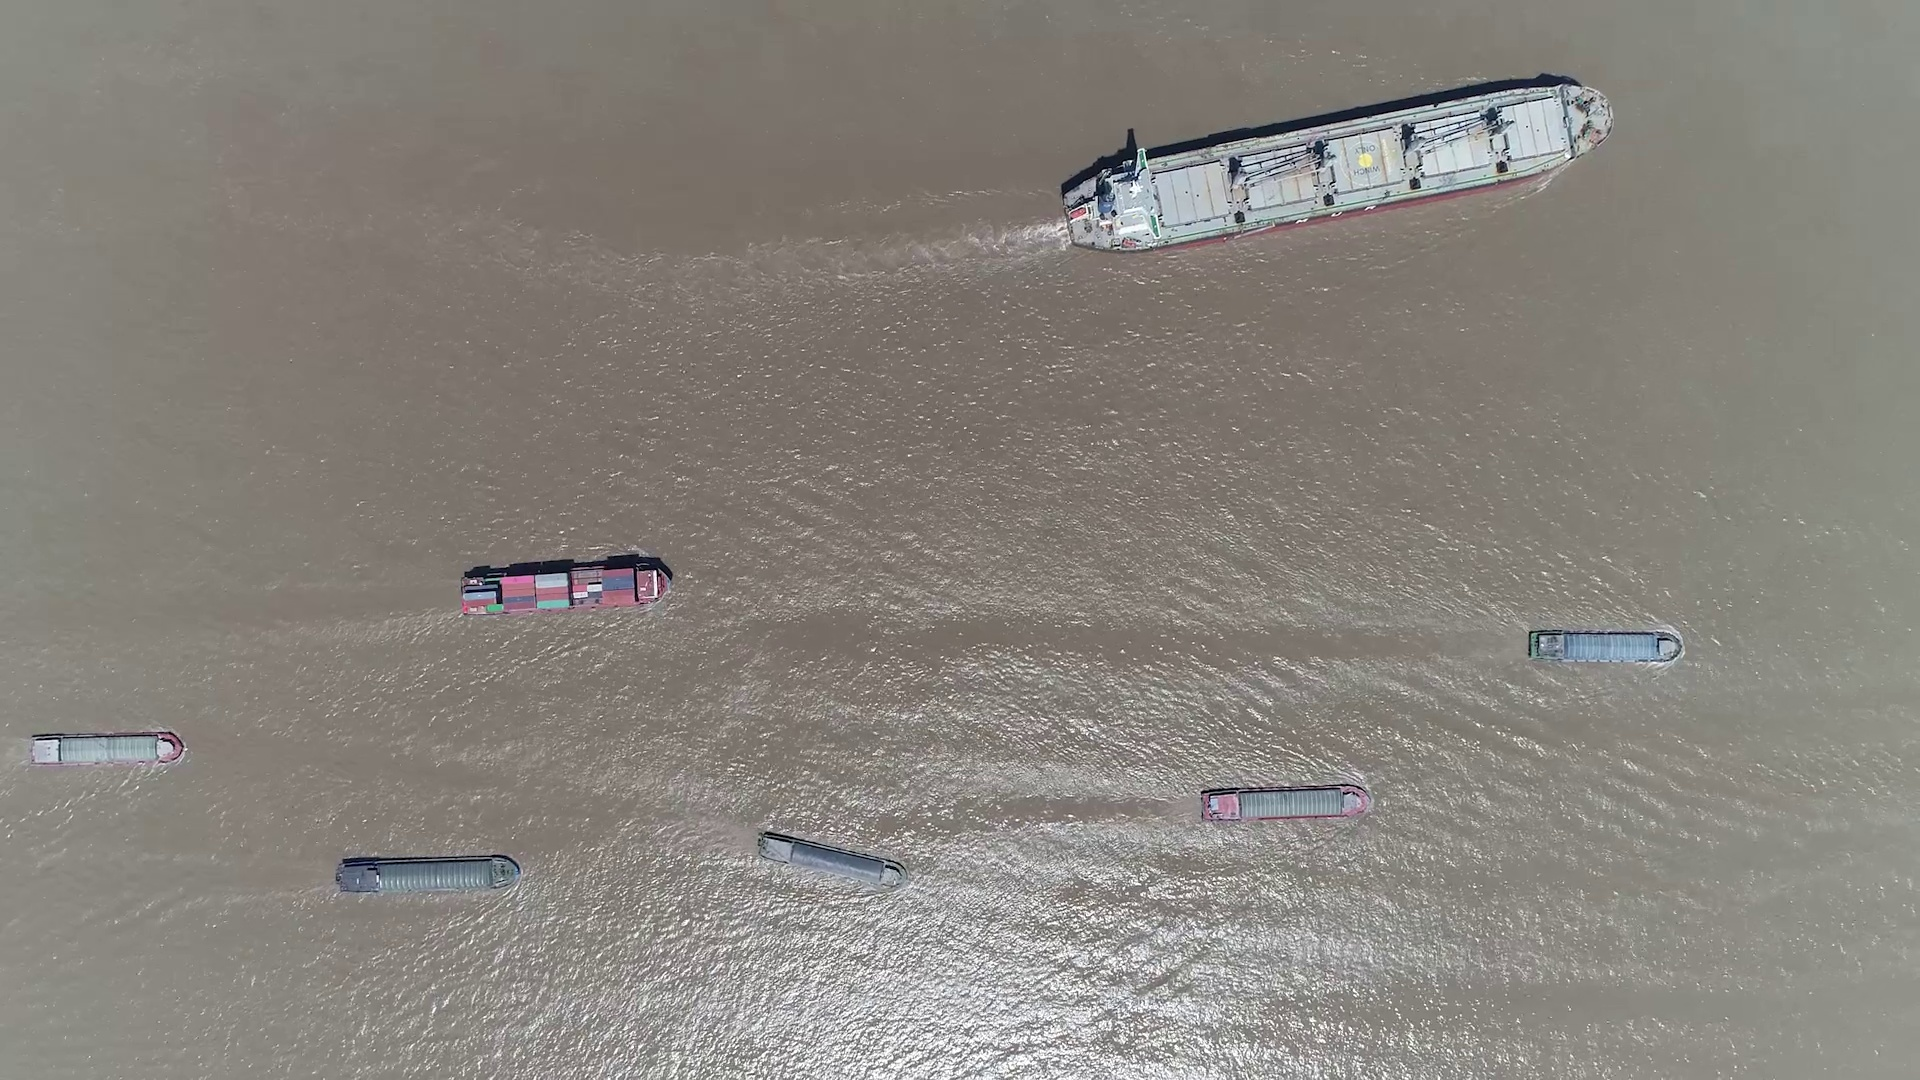ship: (1062, 88, 1614, 249), (462, 562, 671, 616), (757, 829, 905, 887), (335, 855, 520, 893), (1201, 783, 1370, 822), (26, 731, 185, 766), (1531, 629, 1684, 665)
